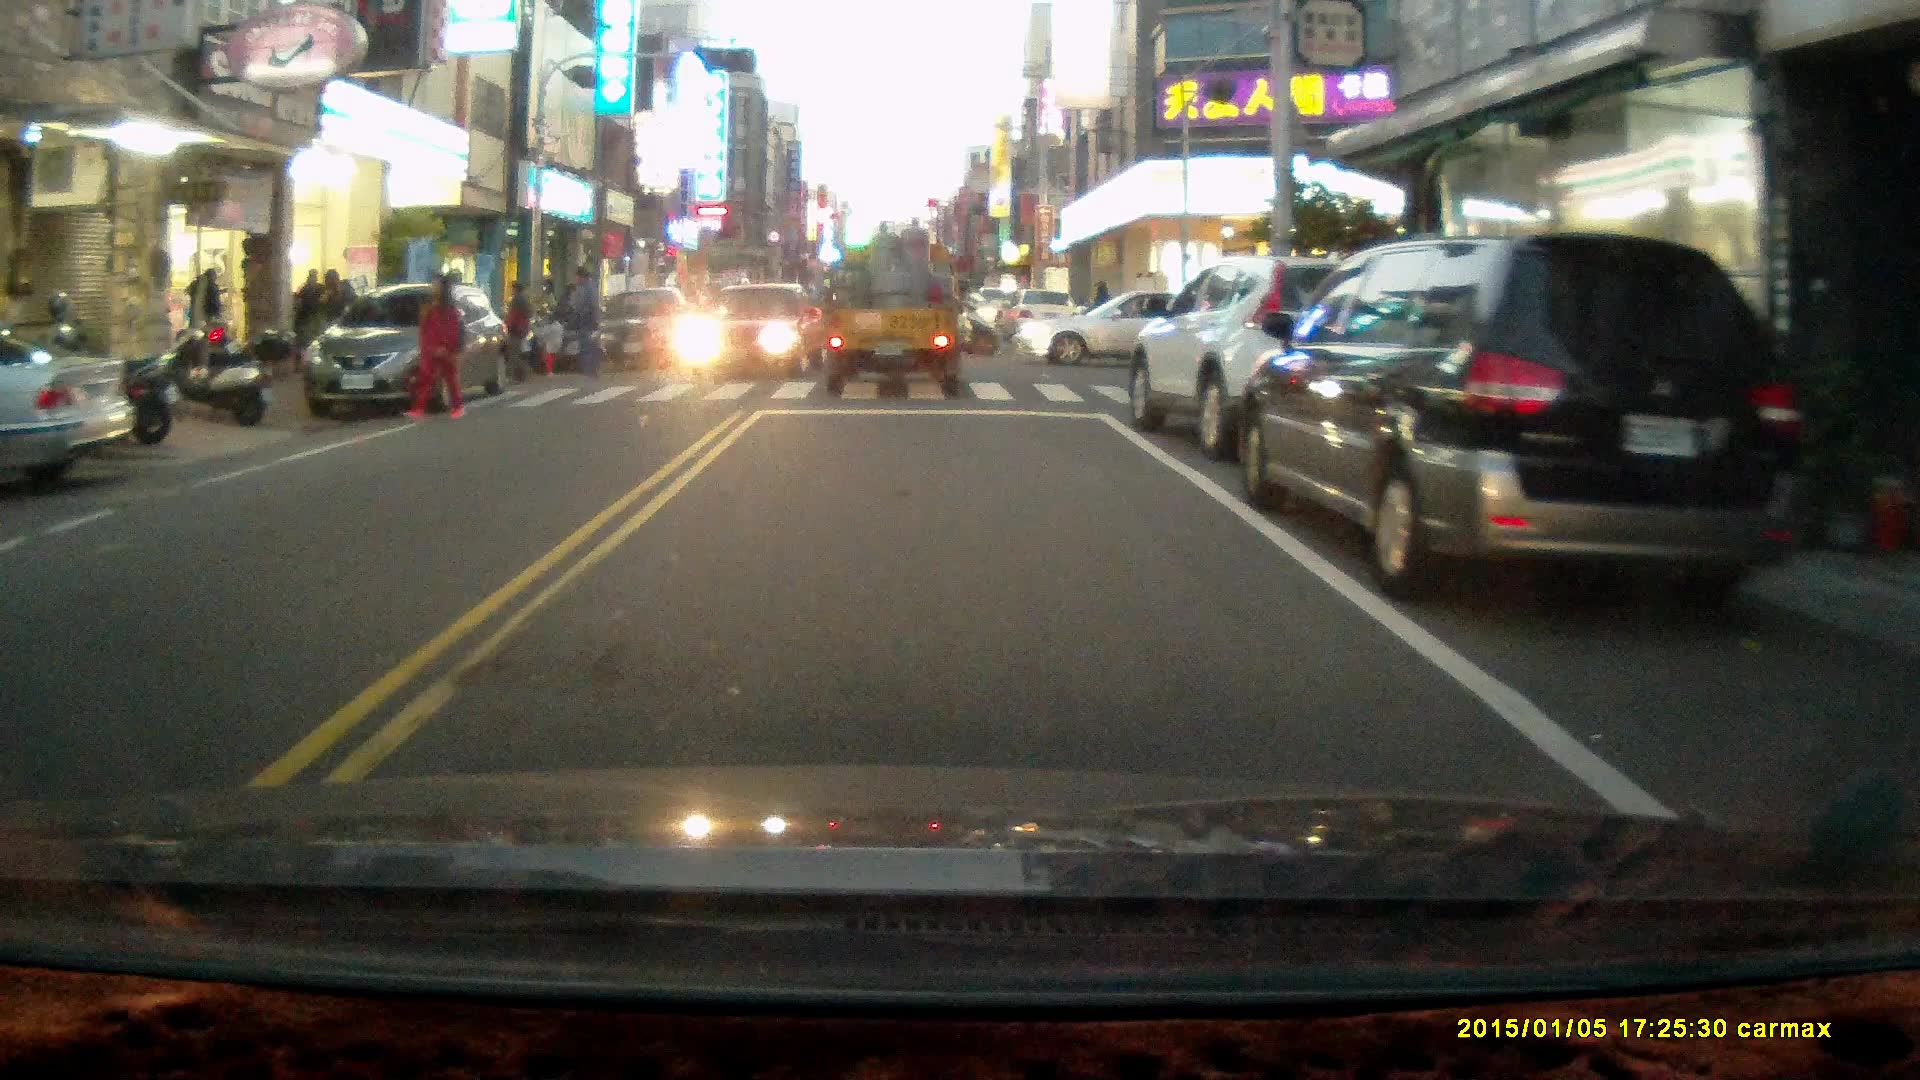pedestrian: (403, 271, 467, 423), (494, 272, 540, 388), (562, 262, 606, 381), (184, 266, 226, 368), (538, 309, 569, 373)
rider: (923, 268, 999, 358)
vehicle: (1240, 234, 1811, 599), (1125, 252, 1454, 463), (303, 284, 508, 421), (818, 219, 972, 396), (1017, 286, 1242, 367), (1, 330, 127, 467), (677, 284, 820, 378), (581, 289, 702, 376)
